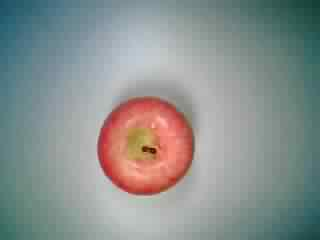apple: (96, 98, 200, 199)
